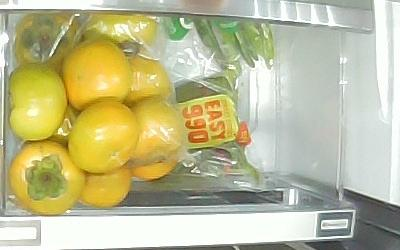persimmon: (8, 141, 87, 214), (67, 99, 140, 174), (62, 39, 132, 109), (8, 65, 68, 142)
persimmon_vinyl: (14, 13, 84, 76), (84, 12, 158, 59), (131, 98, 181, 165), (126, 56, 171, 106)
